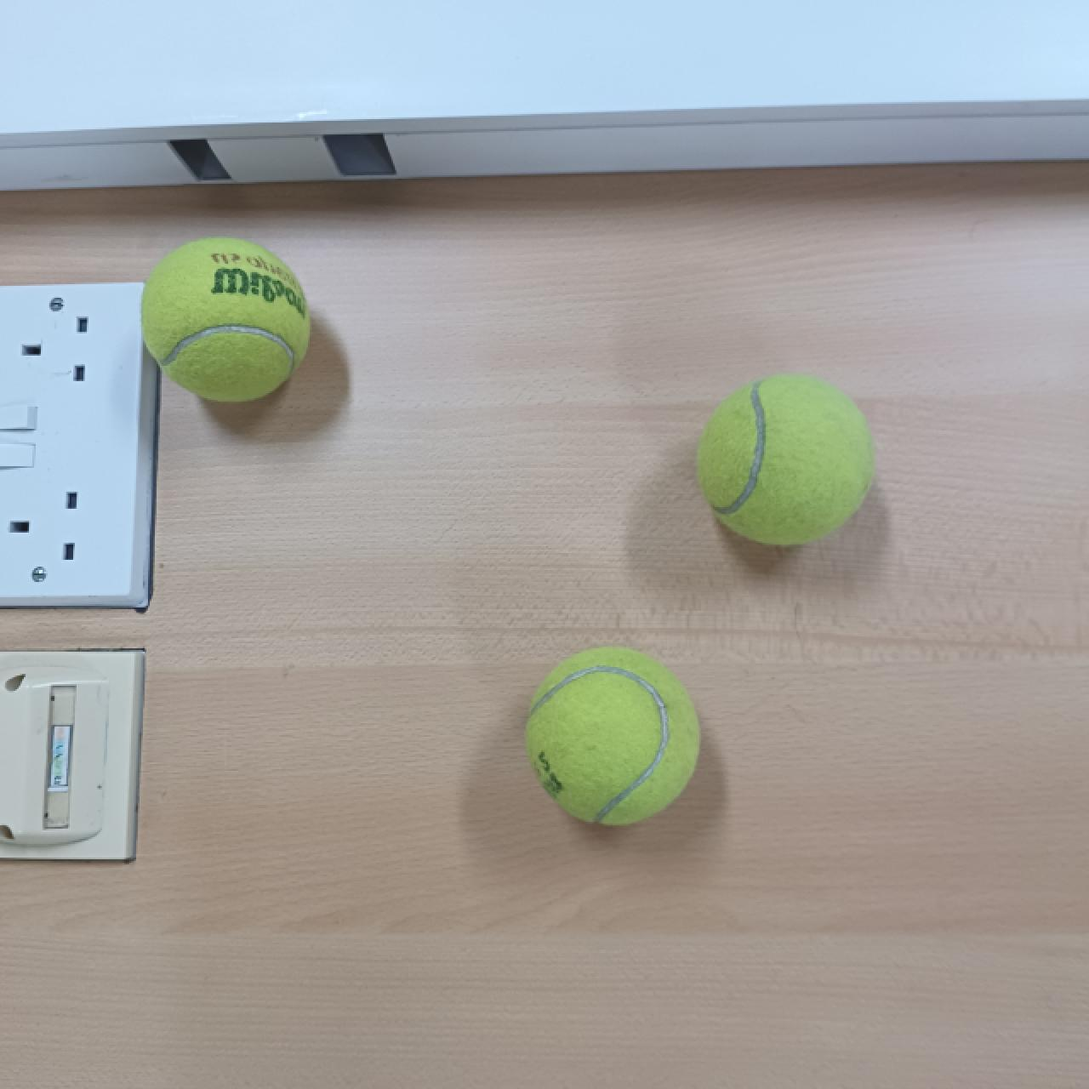tennis-ball: (521, 642, 704, 831), (699, 368, 880, 547), (139, 234, 314, 404)
